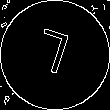L_S: (33, 26, 77, 84)
